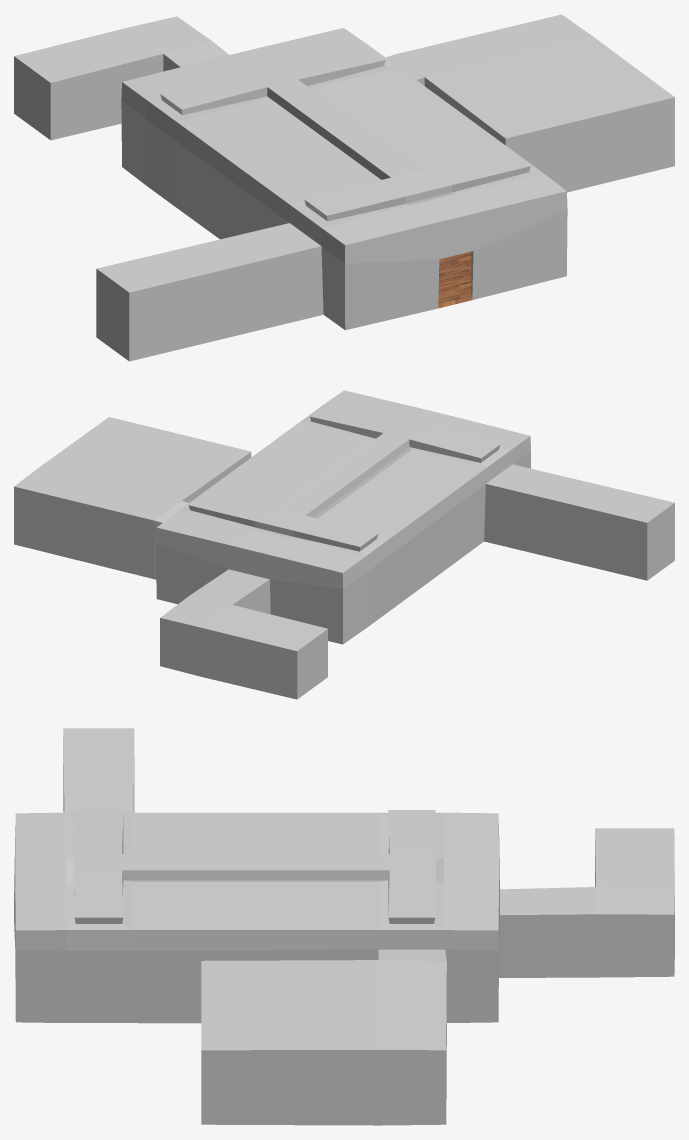
3 renders of one model, top to bottom at view 1: azimuth 30°, elevation 25°; view 2: azimuth 150°, elevation 25°; view 3: azimuth 270°, elevation 25°, orthographic. The views are drawn at different scales.
Parts seen in each view (by area): view 1: Museum; view 2: Museum; view 3: Museum.
Part boxes in pixels (box(x1,y1,x2,y2)): Museum: box(14, 14, 674, 361); Museum: box(14, 390, 674, 699); Museum: box(14, 728, 674, 1125).
Bounding box in the file's own units: 2218 × 331 × 1924.
